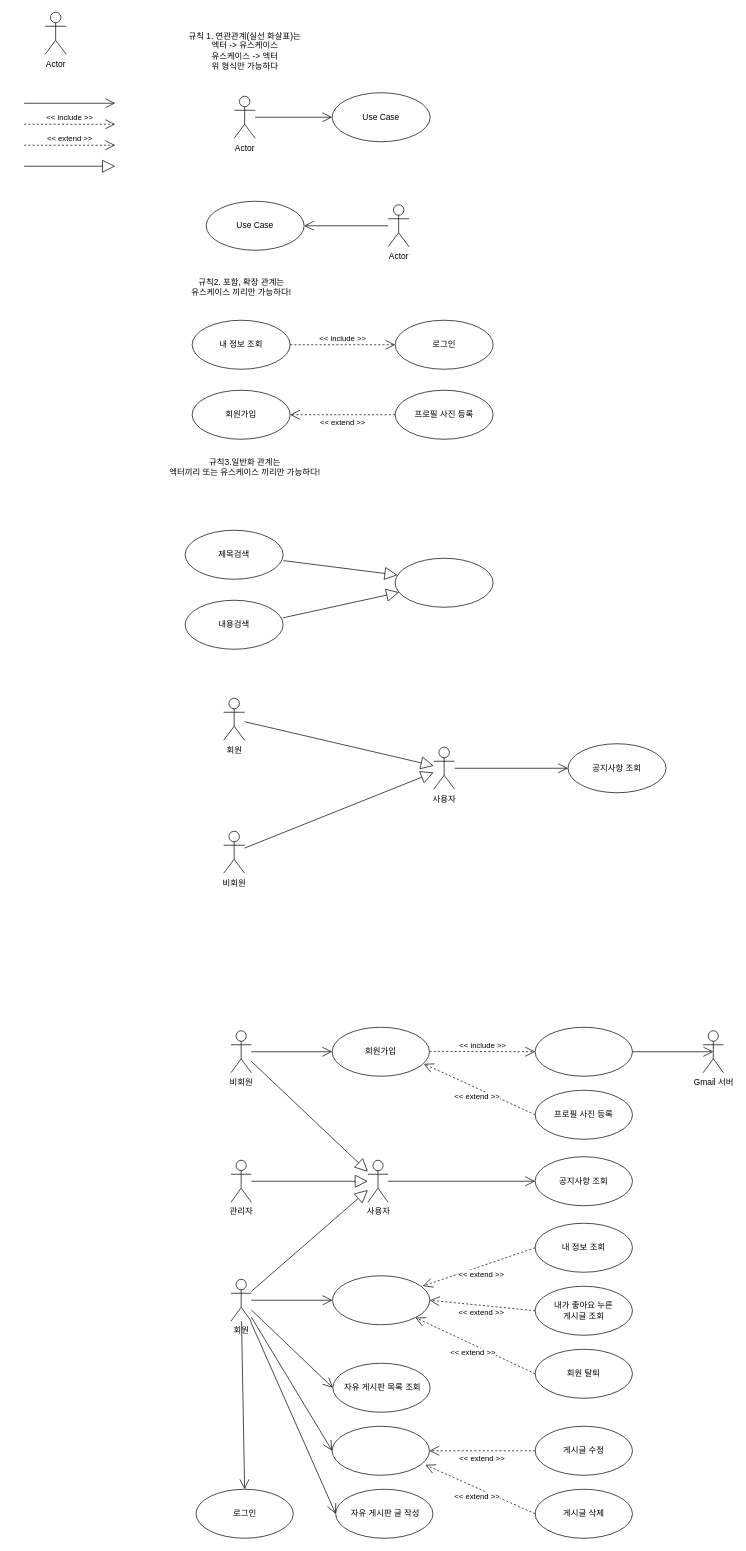
Some shapes in this 746 by 1551 pixel diagram are drawn without their labels. Each missing label, with the centre of its shape:
"게시글 검색" belongs at point 443,582.
"마이페이지" belongs at point 381,1300.
"이메일 인증" belongs at point 583,1051.
"자유 게시판 상세 조회" belongs at point 380,1450.
